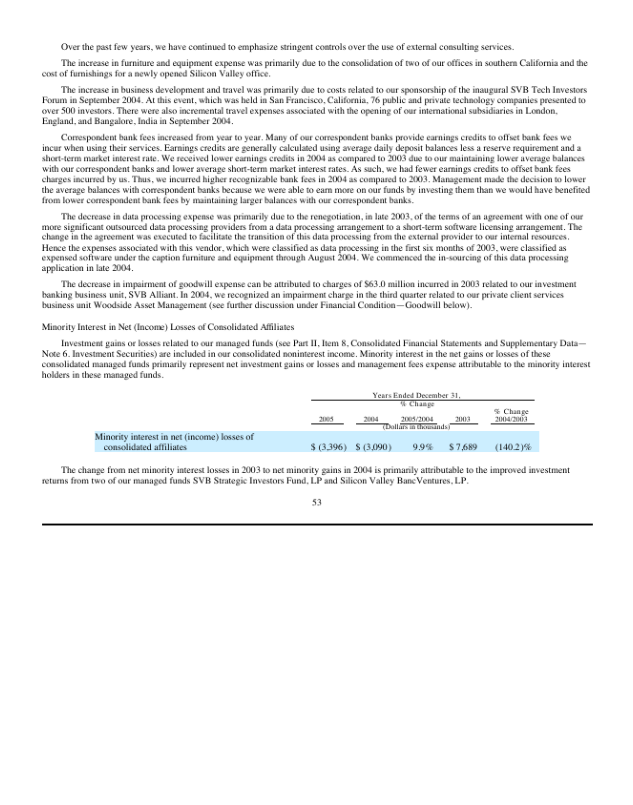table: (308, 390, 541, 456)
